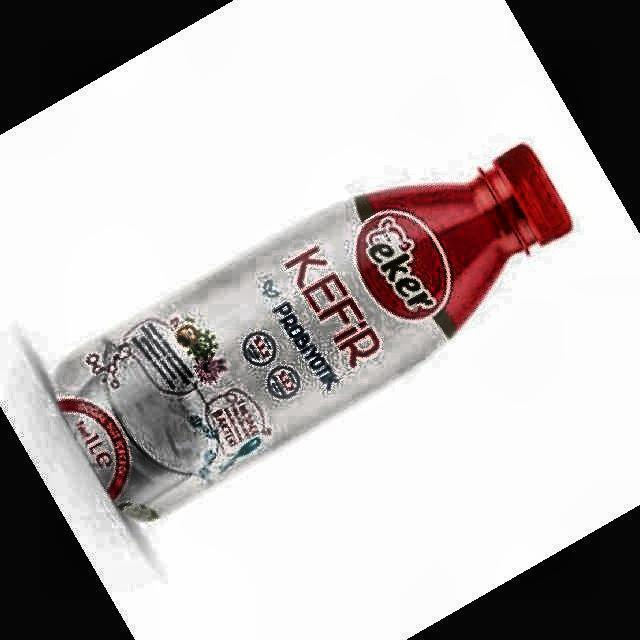plastic: (55, 145, 572, 518)
